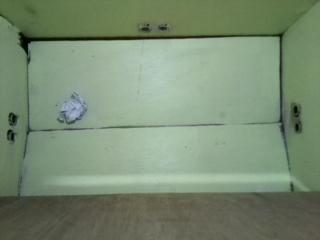paper: (58, 92, 90, 124)
